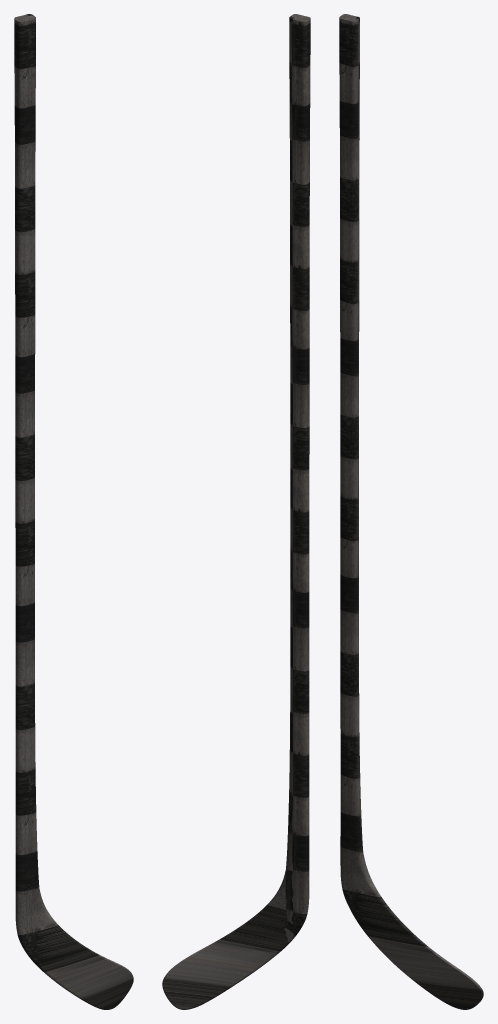
The model's file is P88-SBO.glb.
3 views of the same model, side by side, from view 1: azimuth 30°, elevation 25°; view 2: azimuth 150°, elevation 25°; view 3: azimuth 330°, elevation 25° (orthographic). The views are drawn at different scales.
Visible parts, largest first — view 1: geometry_0; view 2: geometry_0; view 3: geometry_0.
Part boxes in pixels (box(x1,y1,x2,y2)): geometry_0: box(14, 14, 133, 1009); geometry_0: box(162, 14, 310, 1009); geometry_0: box(339, 14, 483, 1009).
Bounding box in the file's own units: 224 × 1650 × 62.8.
Materials: 1 (1 with a texture image).
